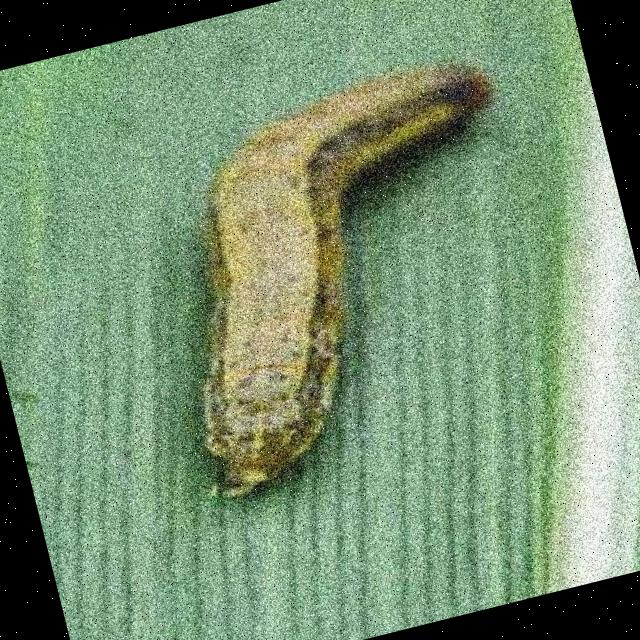worm: (127, 46, 578, 505)
